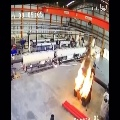fire: (75, 59, 94, 99)
